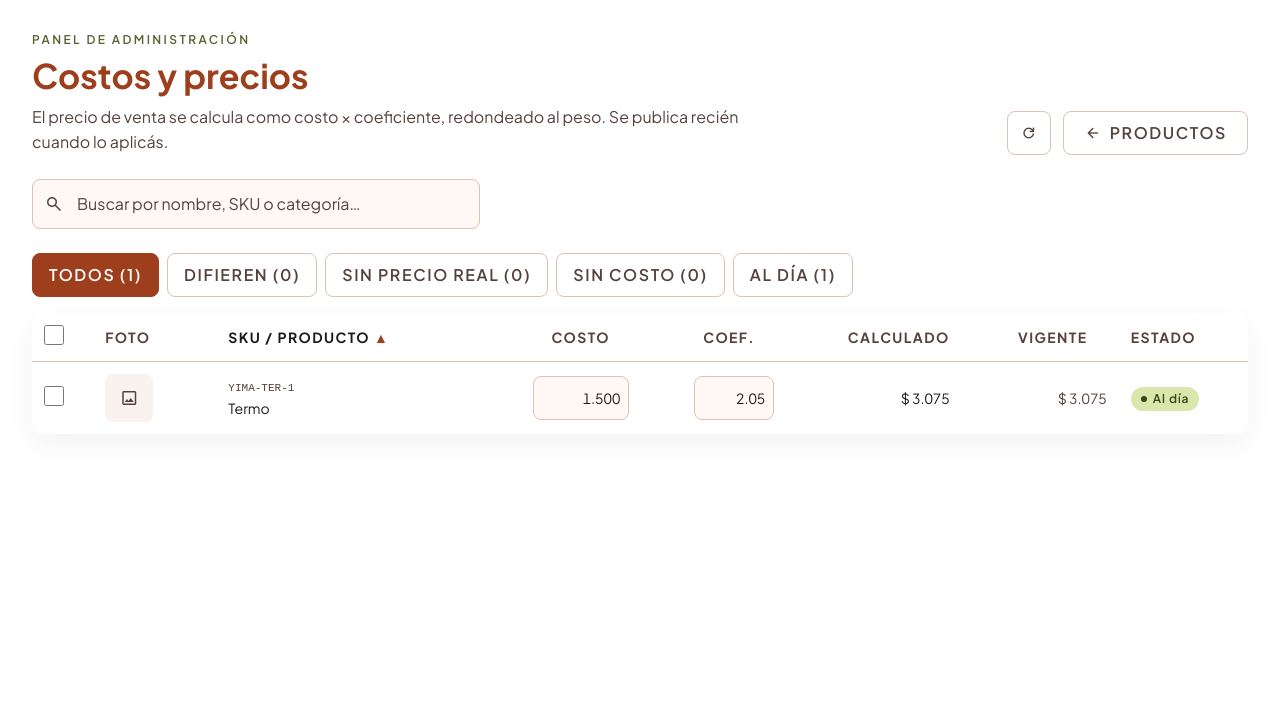
Test: AdminPrecios — un costo sin escribir bloquea la previsualización › un costo tipeado y devuelto a su valor original no bloquea nada
This screenshot has width=1280, height=720.
expect the text "Termo" is shown: met, box [228,399,270,417]
Click the checkbox named "Seleccionar Termo" at (54, 396), box [44,386,64,406]
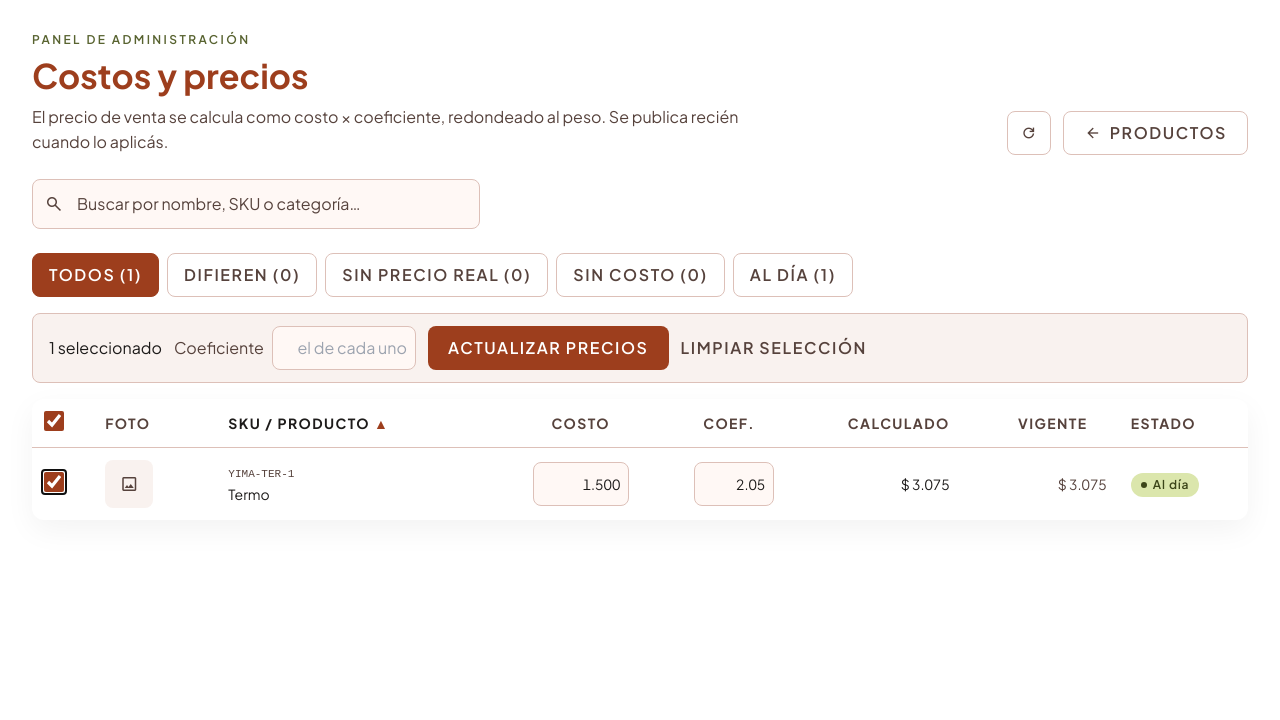
Clear the 1st field named "Costo de Termo" at (581, 484), box [533,462,629,506]
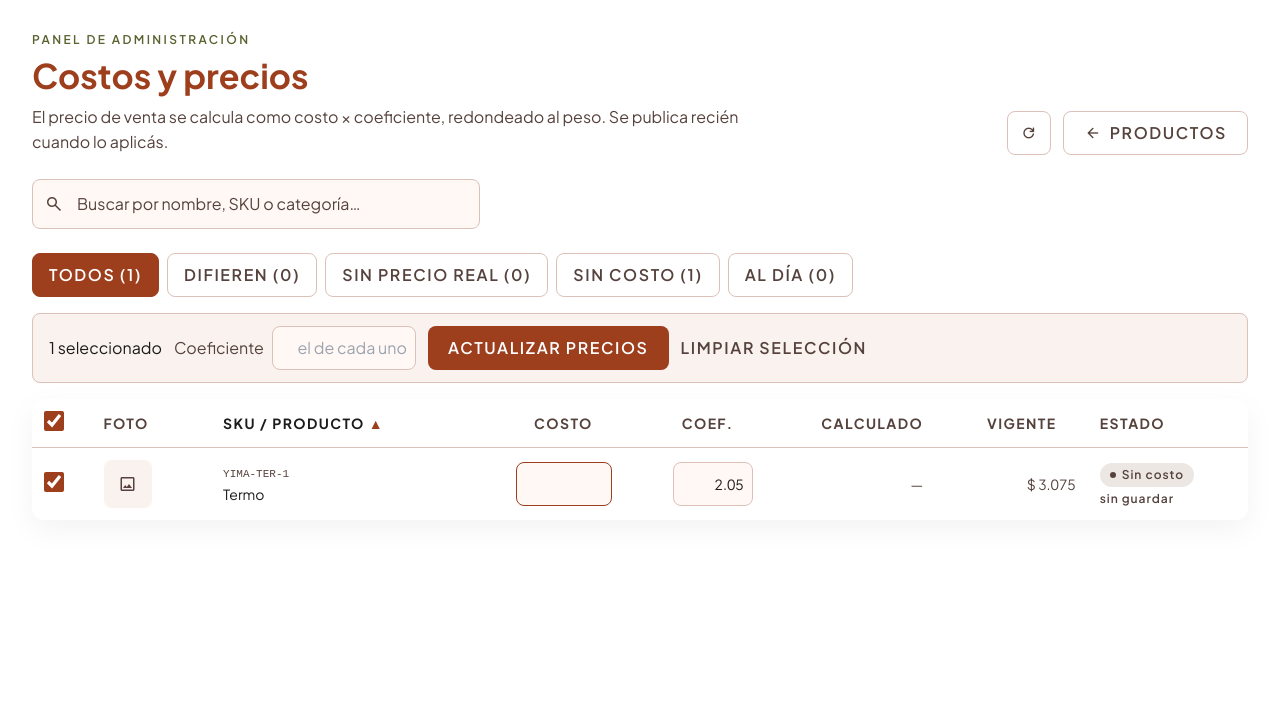
Type "1500" into the 1st field named "Costo de Termo" at (564, 484), box [516,462,612,506]
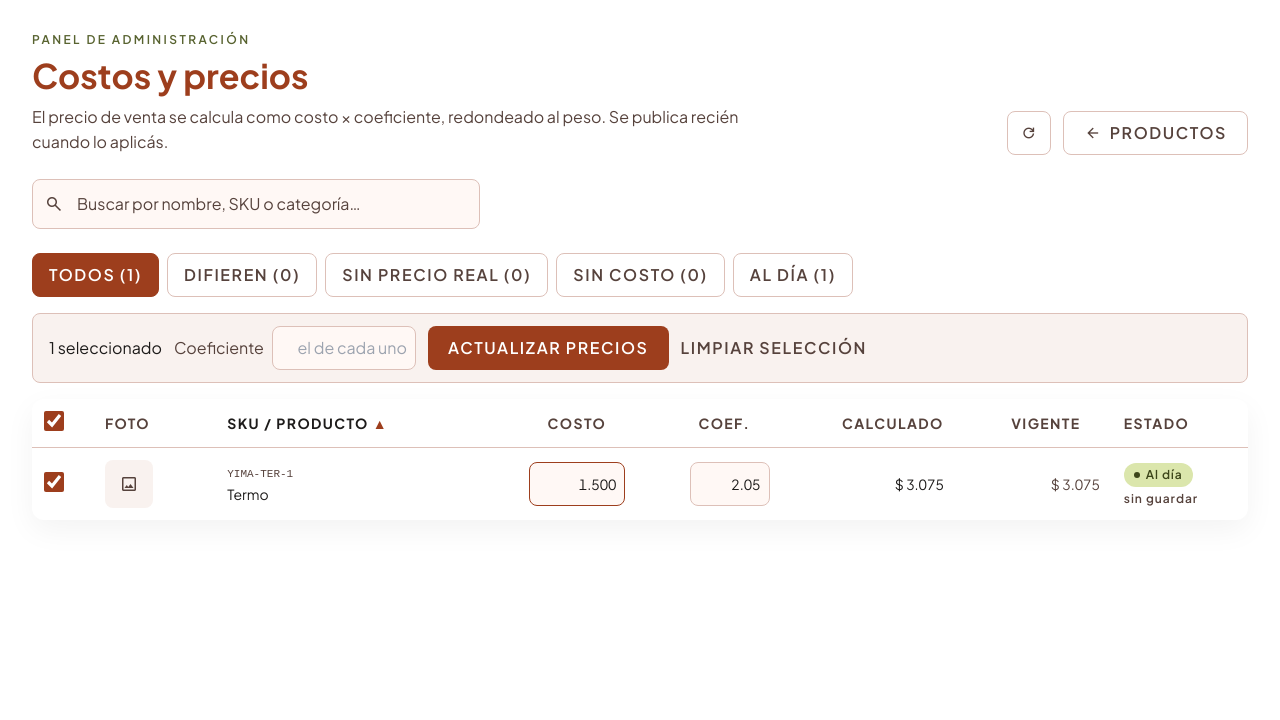
Click the button "Actualizar precios" at (548, 348), box [428,326,669,370]
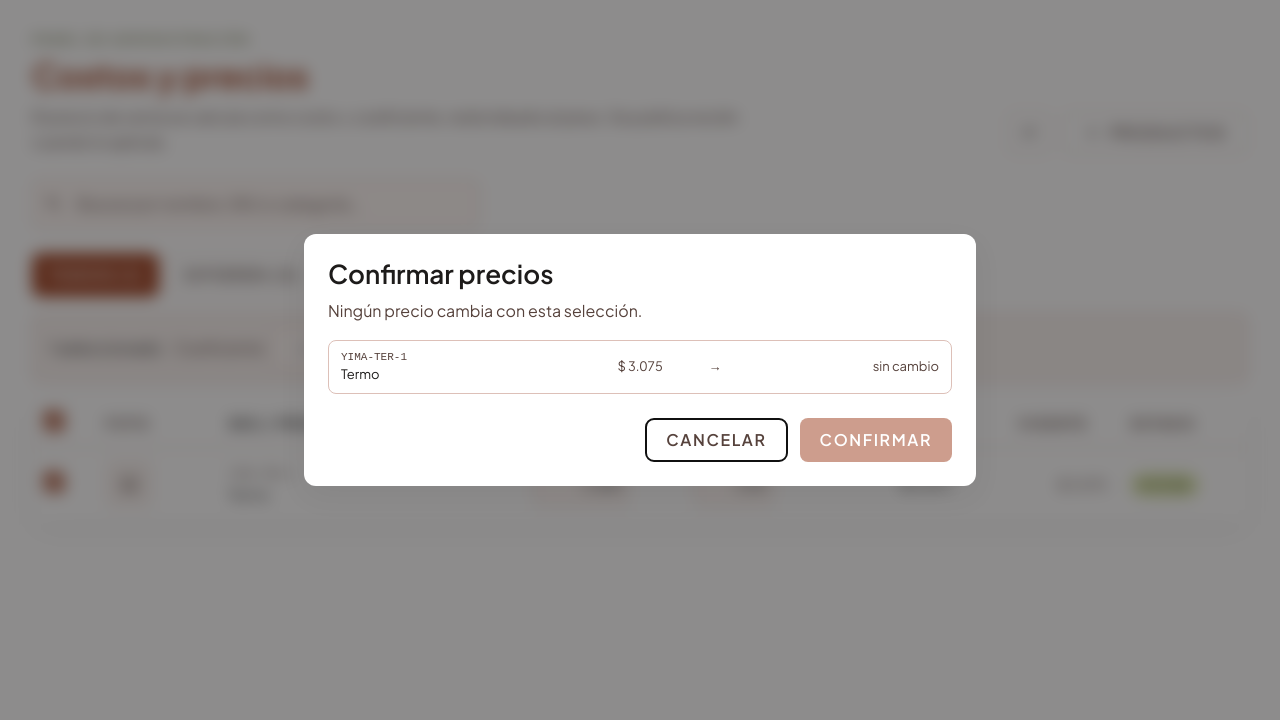
expect the dialog is shown: met, box [304,234,976,486]
